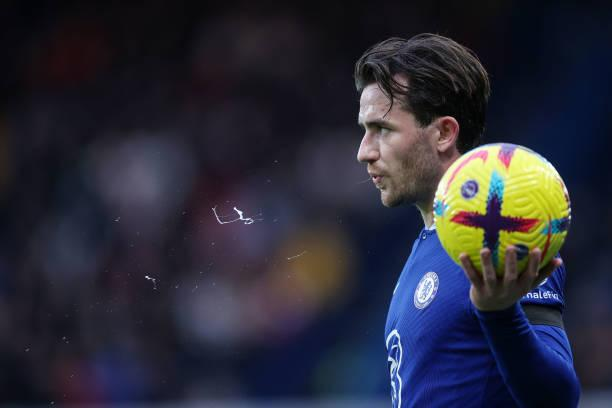Spitting: (186, 28, 512, 249)
